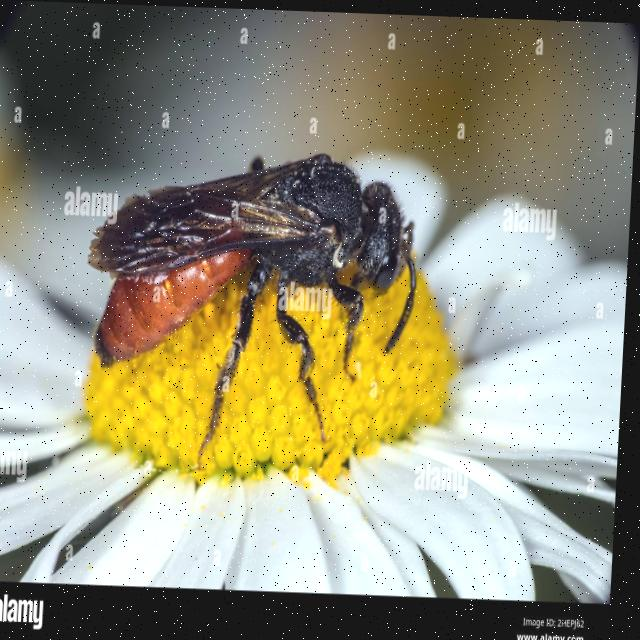Allodapula: (76, 130, 432, 472)
